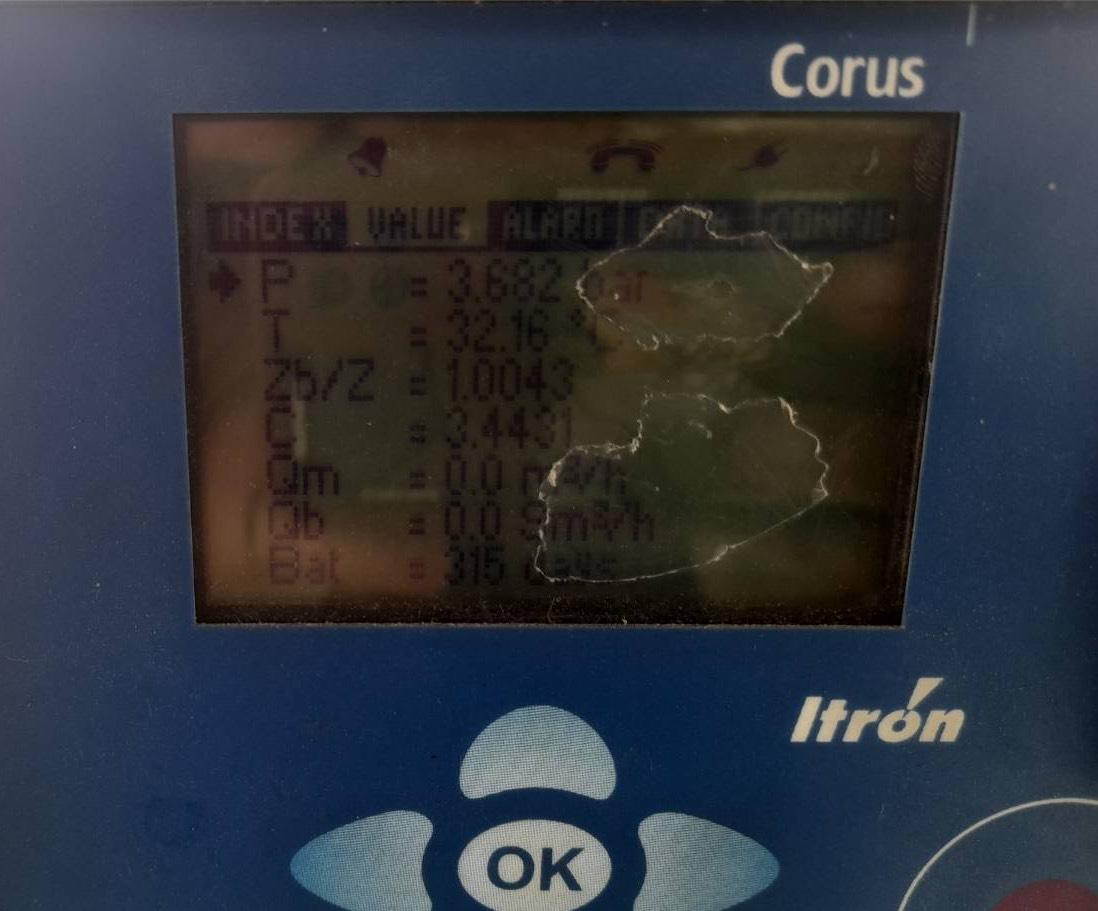digital_screen: (176, 113, 961, 632)
